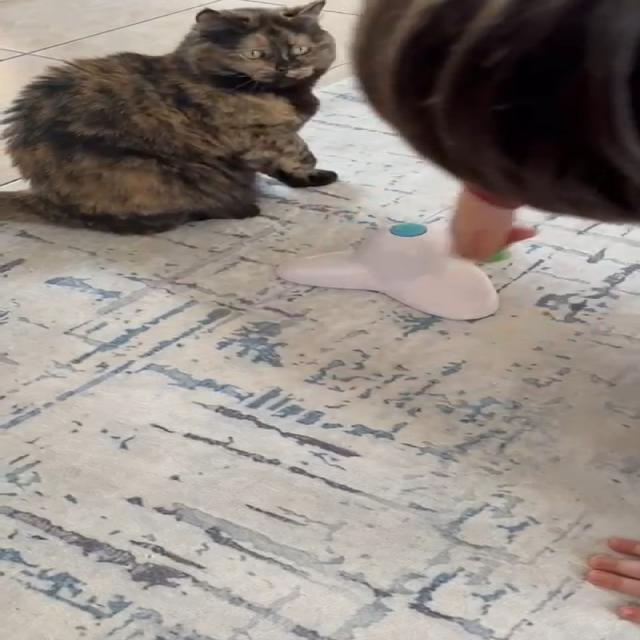authorized: (0, 0, 338, 235)
